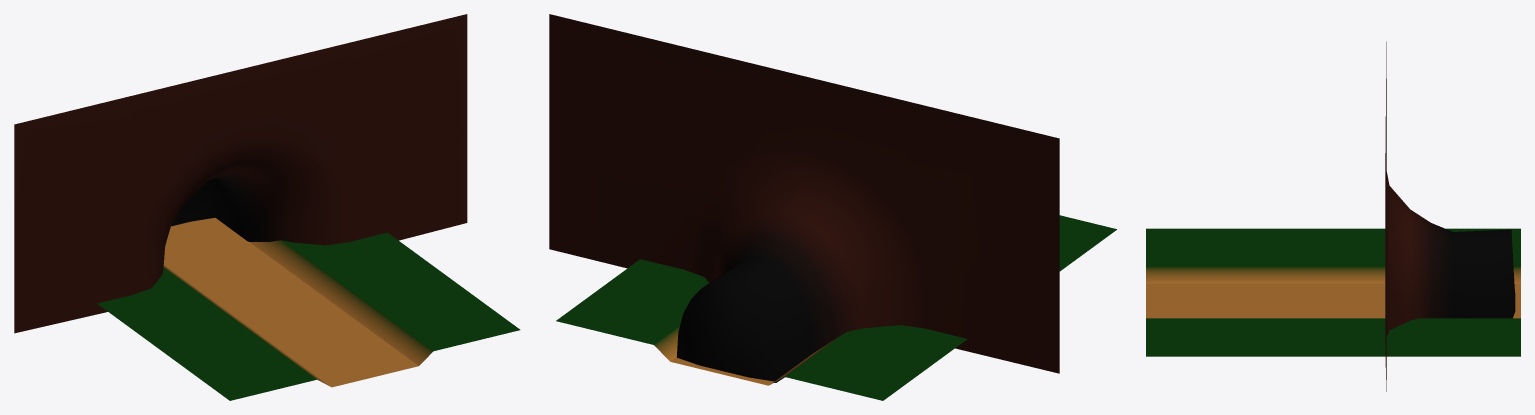
File: Mesh_SmartVAT_DemoScene_01.fbx
3 views of the same model, side by side, from view 1: azimuth 30°, elevation 25°; view 2: azimuth 150°, elevation 25°; view 3: azimuth 270°, elevation 25° (orthographic). The views are drawn at different scales.
Visible parts, largest first — view 1: Mesh_SmartVat_DemoScene_01; view 2: Mesh_SmartVat_DemoScene_01; view 3: Mesh_SmartVat_DemoScene_01.
Boxes of the visible parts, <box> form: Mesh_SmartVat_DemoScene_01: <box>14,14,520,400</box>; Mesh_SmartVat_DemoScene_01: <box>549,14,1116,400</box>; Mesh_SmartVat_DemoScene_01: <box>1146,41,1520,391</box>.
Bounding box in the file's own units: 626 × 282 × 498.
